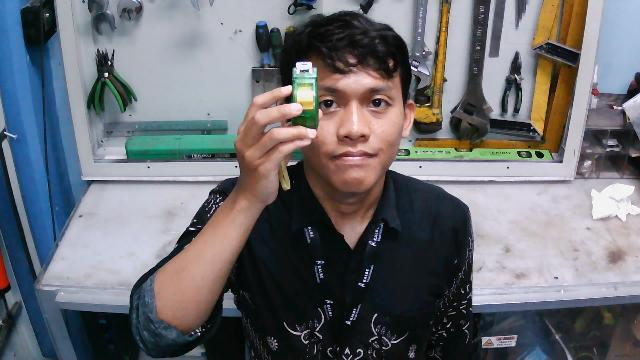meteran: (269, 61, 329, 144)
